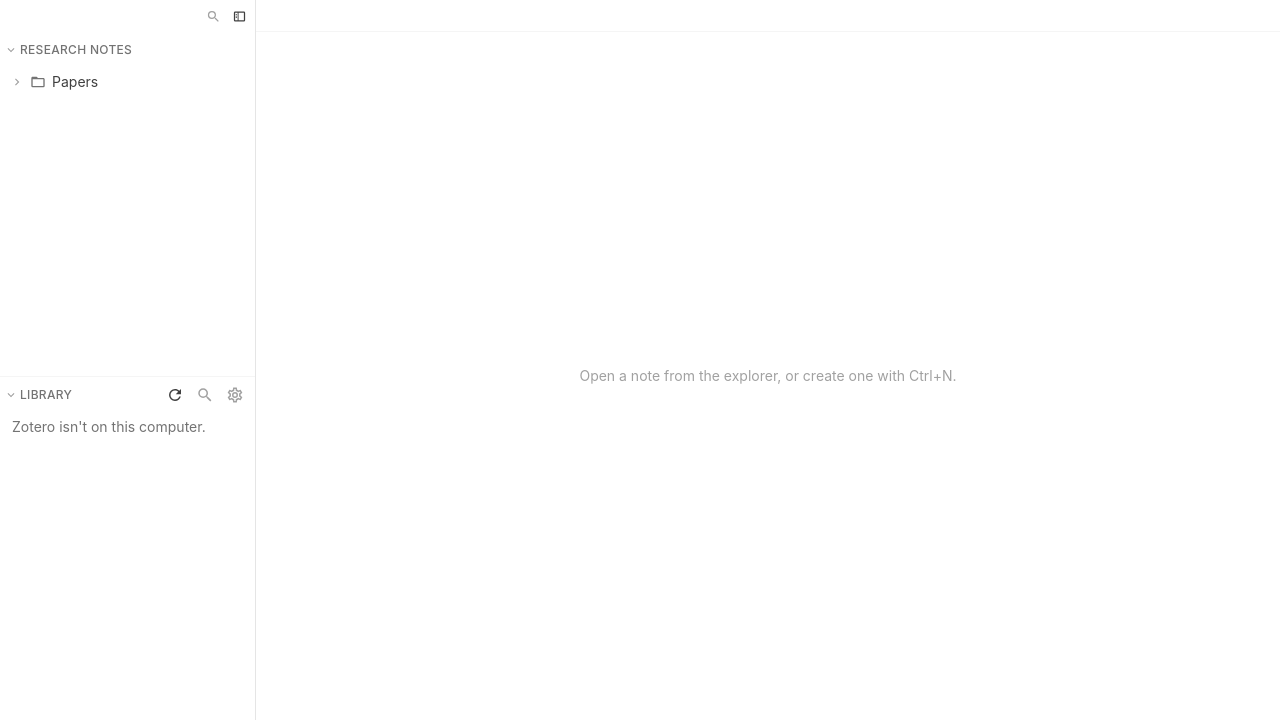
File explorer: what it shows › collapses an expanded folder when clicked again
Expected: the heading "Research Notes" is shown, [4,40,161,60]
What coordinates should you click on to do the following:
click the button "Papers"
I would click on:
 (128, 82)
Its box is [6,68,249,96].
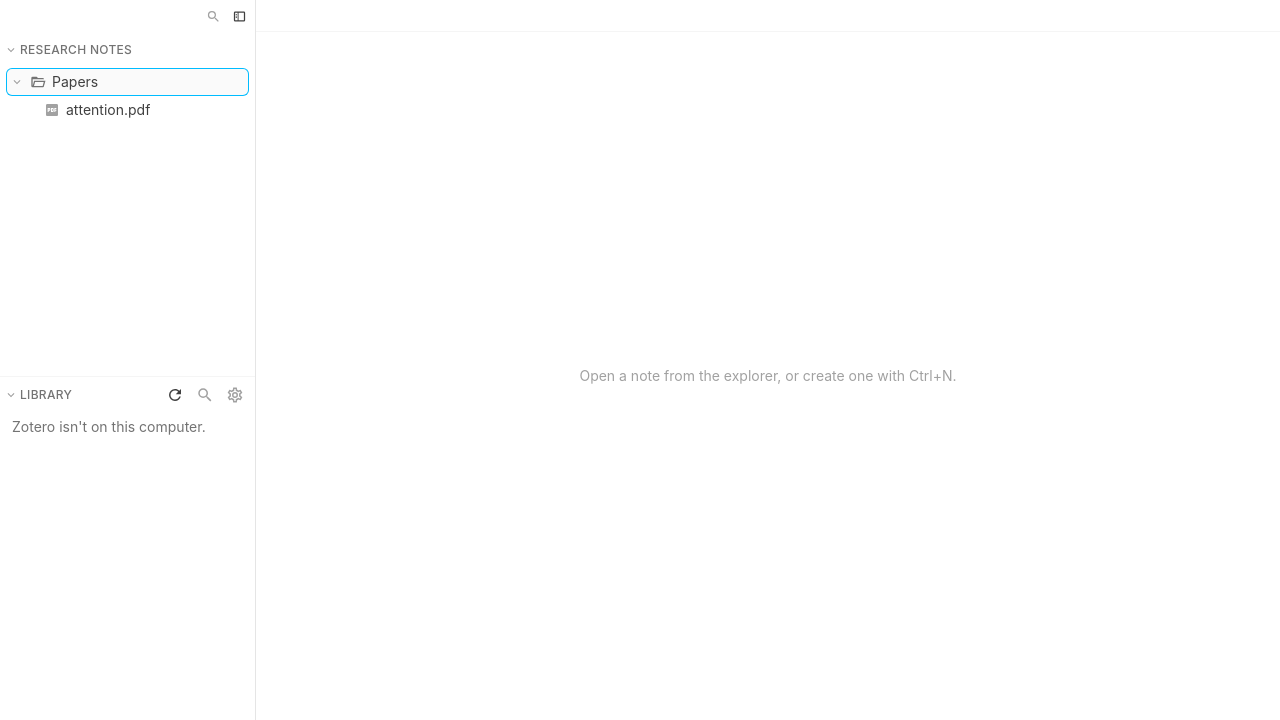
What coordinates should you click on to do the following:
click the button "Papers"
I would click on:
 (128, 82)
Its box is [6,68,249,96].
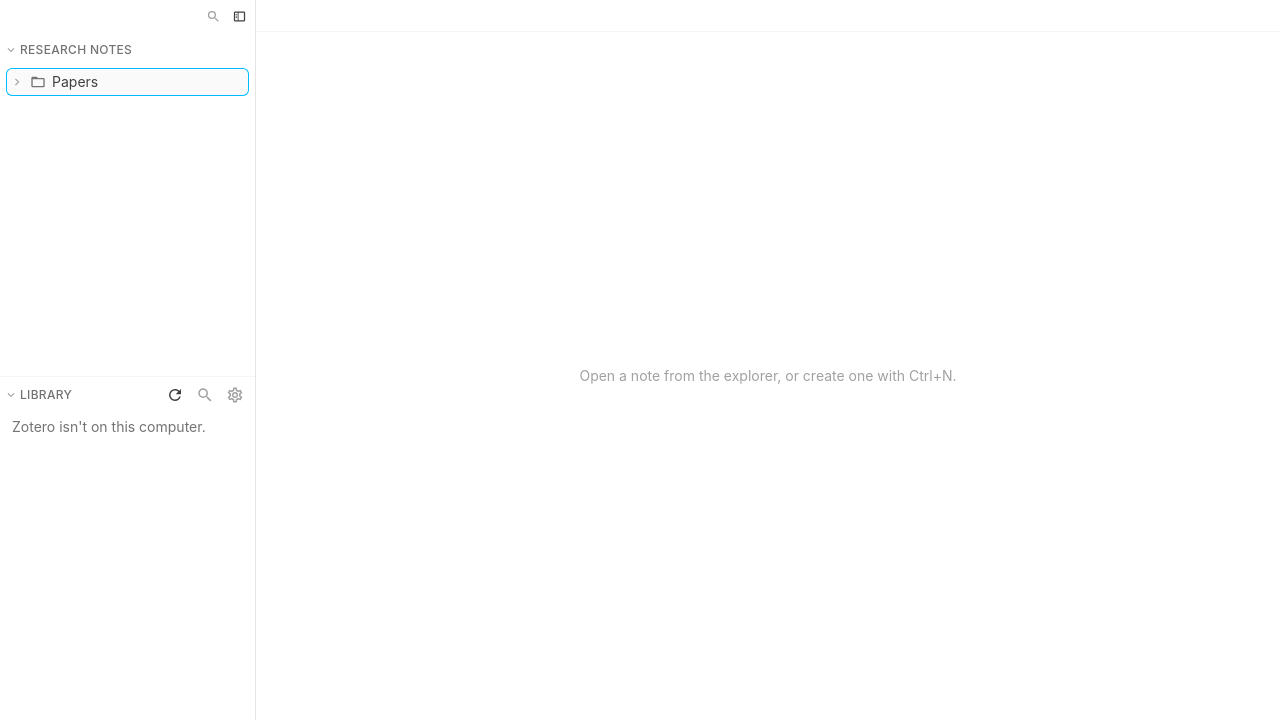
Expected: the button "attention.pdf" is gone
